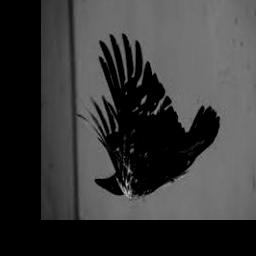Crow: (76, 34, 221, 198)
